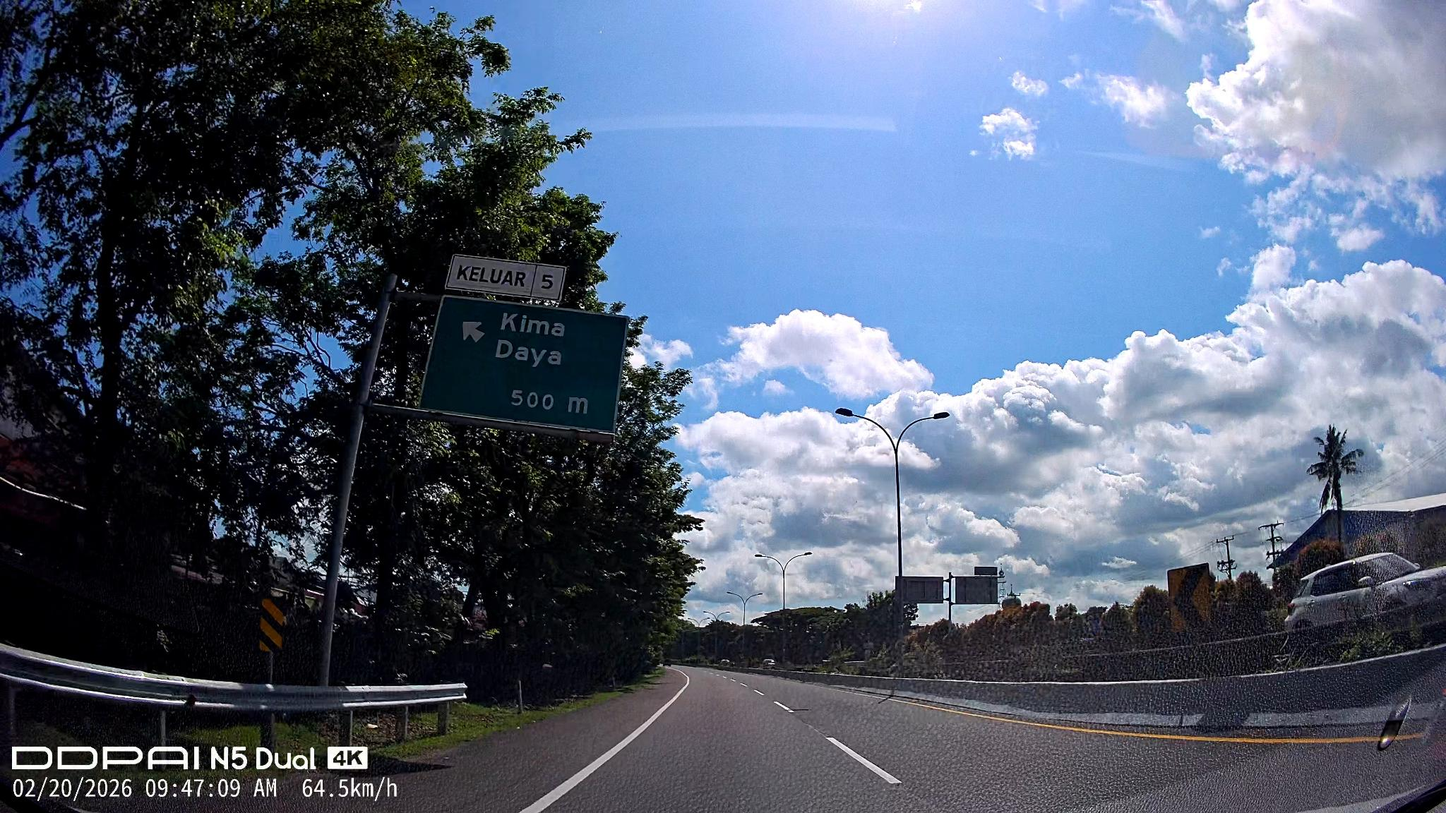rambu_teks: (411, 289, 628, 440)
